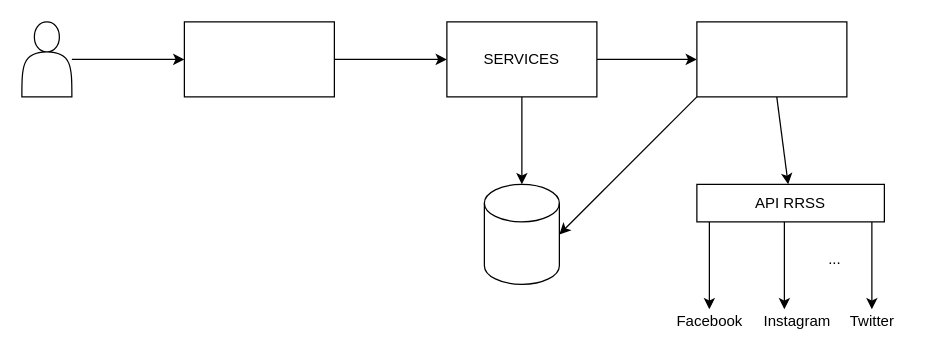
Some shapes in this 925 by 356 pixel diagram are drawn without their labels. Each missing label, with the centre of its shape:
"API" belongs at point 258,59.
"SCHEDULER" belongs at point 771,59.
